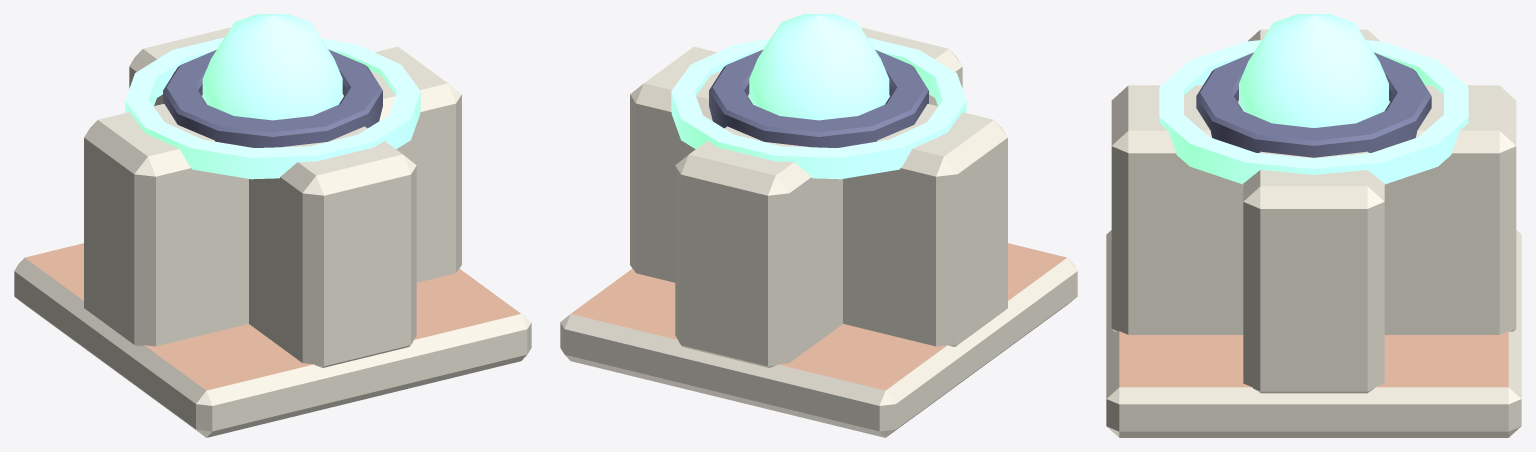
Rendered from R4X_RepairPulse_LOD1.fbx.
3 views of the same model, side by side, from view 1: azimuth 30°, elevation 25°; view 2: azimuth 150°, elevation 25°; view 3: azimuth 270°, elevation 25° (orthographic). The views are drawn at different scales.
Visible parts, largest first — view 1: R4X_RepairPulse_LOD1; view 2: R4X_RepairPulse_LOD1; view 3: R4X_RepairPulse_LOD1.
Part boxes in pixels (<box>): R4X_RepairPulse_LOD1: <box>14,14,531,437</box>; R4X_RepairPulse_LOD1: <box>560,14,1077,437</box>; R4X_RepairPulse_LOD1: <box>1106,14,1521,437</box>.
Size of the model in its own units: 0.52 by 0.4704 by 0.52.
